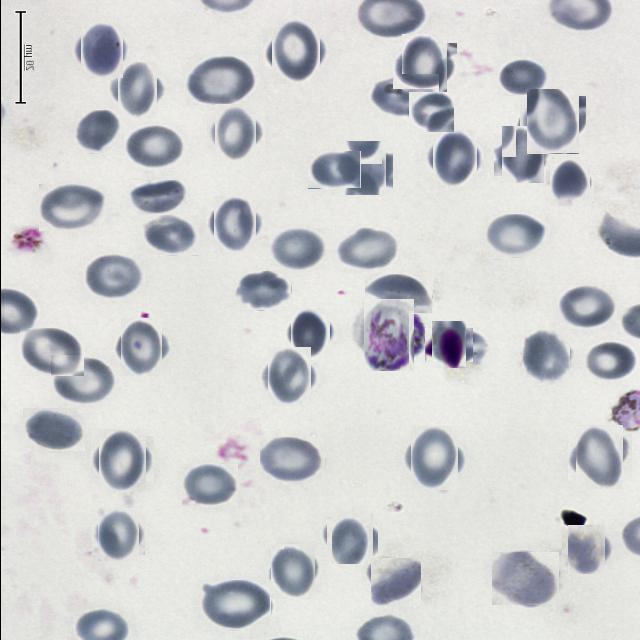leukocyte: (428, 324, 468, 366)
red blood cell: (185, 55, 257, 106), (491, 552, 559, 606), (200, 580, 270, 631), (522, 92, 581, 152), (50, 355, 116, 405), (266, 24, 324, 80), (38, 182, 105, 230), (334, 226, 400, 274), (406, 430, 462, 486), (396, 38, 452, 94), (94, 432, 150, 488), (570, 428, 626, 484), (258, 437, 324, 484), (368, 74, 438, 118), (19, 328, 83, 376), (83, 254, 144, 300), (124, 125, 186, 170), (484, 214, 547, 258), (364, 274, 432, 314), (428, 133, 480, 185), (262, 350, 314, 402), (519, 332, 571, 384), (555, 285, 616, 329), (22, 408, 84, 451), (116, 322, 166, 372), (268, 546, 318, 596), (210, 200, 260, 250), (497, 130, 547, 180), (210, 108, 260, 158), (76, 25, 125, 75), (370, 558, 420, 606), (268, 228, 325, 270), (181, 464, 237, 506), (141, 215, 198, 256), (113, 66, 161, 114), (94, 510, 142, 558), (581, 341, 637, 382), (128, 179, 188, 217), (341, 144, 388, 192), (236, 271, 291, 311), (286, 312, 332, 358), (328, 515, 374, 561), (74, 110, 122, 154), (306, 151, 361, 189), (497, 58, 550, 96), (547, 161, 591, 205), (564, 527, 607, 571), (408, 92, 453, 132)
trophozoite: (358, 304, 420, 366)
